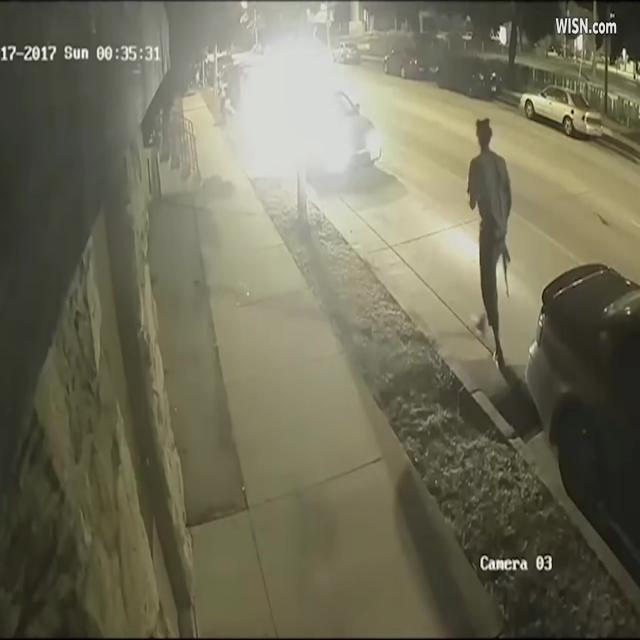Weapon: (488, 200, 516, 307)
